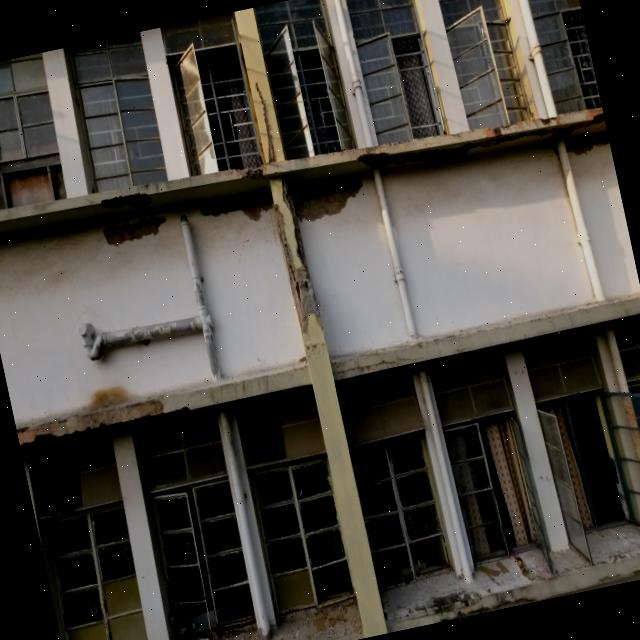spalling: (268, 175, 385, 637), (237, 19, 260, 69)
stain_mould: (16, 399, 163, 446), (431, 587, 523, 621), (88, 385, 130, 408), (585, 107, 604, 121), (482, 127, 500, 137)
